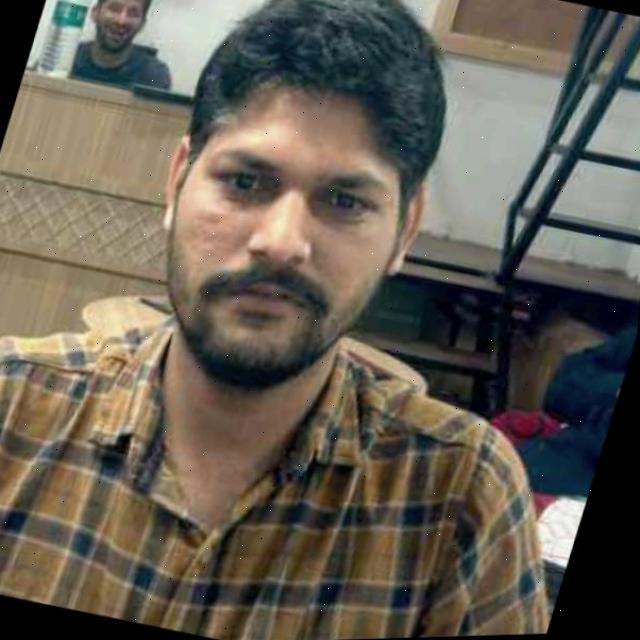puffy_eyes: (218, 186, 288, 209), (314, 206, 379, 227)
